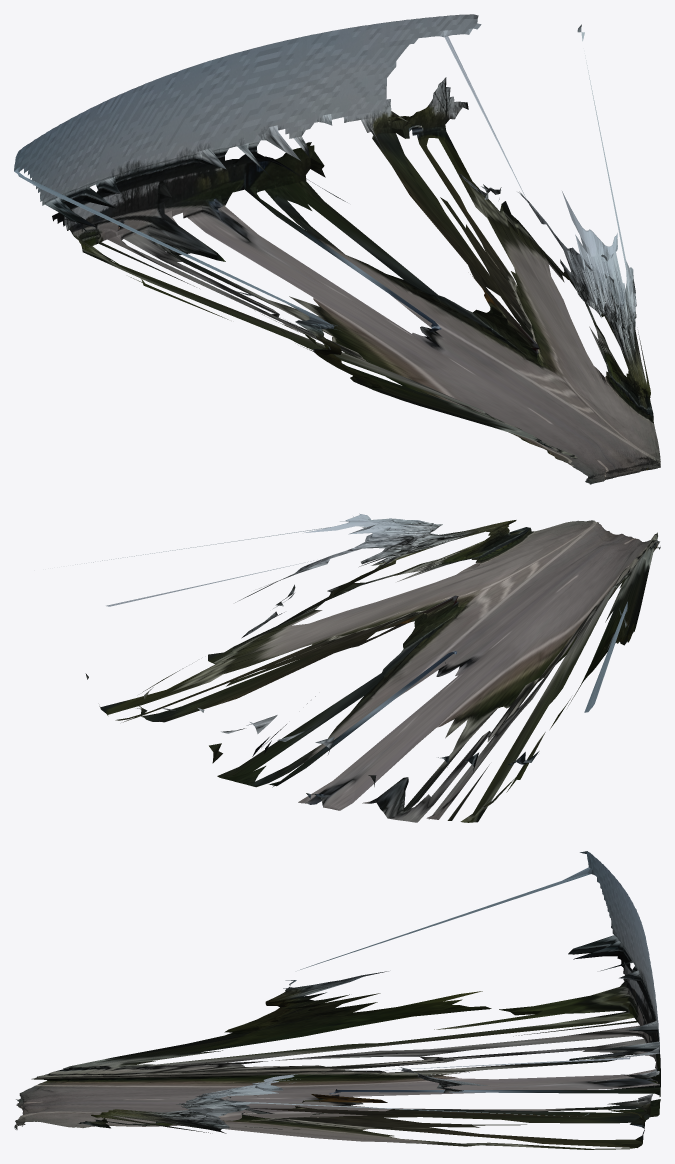
The picture shows the model from 3 angles, top to bottom: view 1: azimuth 30°, elevation 25°; view 2: azimuth 150°, elevation 25°; view 3: azimuth 270°, elevation 25°; orthographic projection. The views are drawn at different scales.
Visible parts, largest first — view 1: defaultobject; view 2: defaultobject; view 3: defaultobject.
Part boxes in pixels (bbox=[...]): defaultobject: bbox=[14, 14, 660, 484]; defaultobject: bbox=[75, 513, 660, 822]; defaultobject: bbox=[14, 851, 660, 1149].
Bounding box in the file's own units: 40.17 × 11.77 × 44.48.
1 material, 1 textured.
